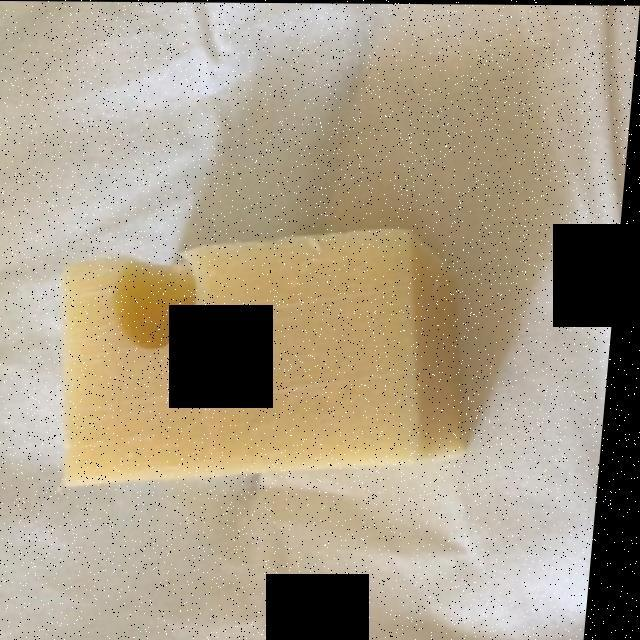cheese: (72, 227, 472, 485)
